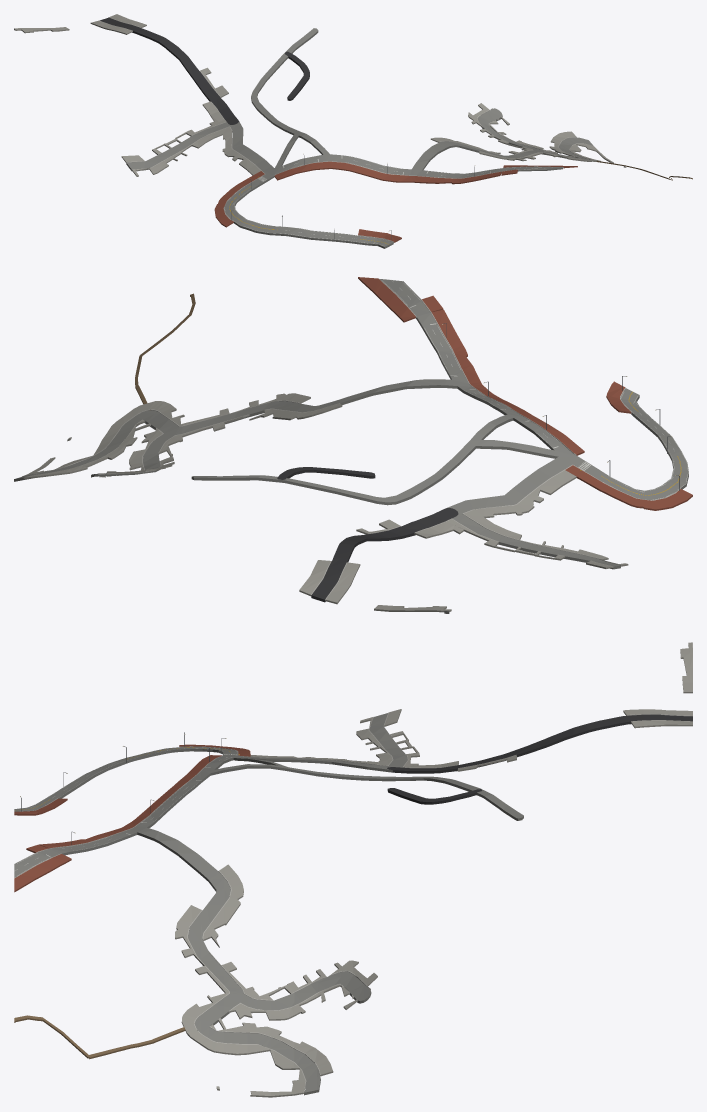
3 renders of one model, top to bottom at view 1: azimuth 30°, elevation 25°; view 2: azimuth 150°, elevation 25°; view 3: azimuth 270°, elevation 25°, orthographic. The views are drawn at different scales.
Bounding box in the file's own units: 293 × 79.08 × 292.
